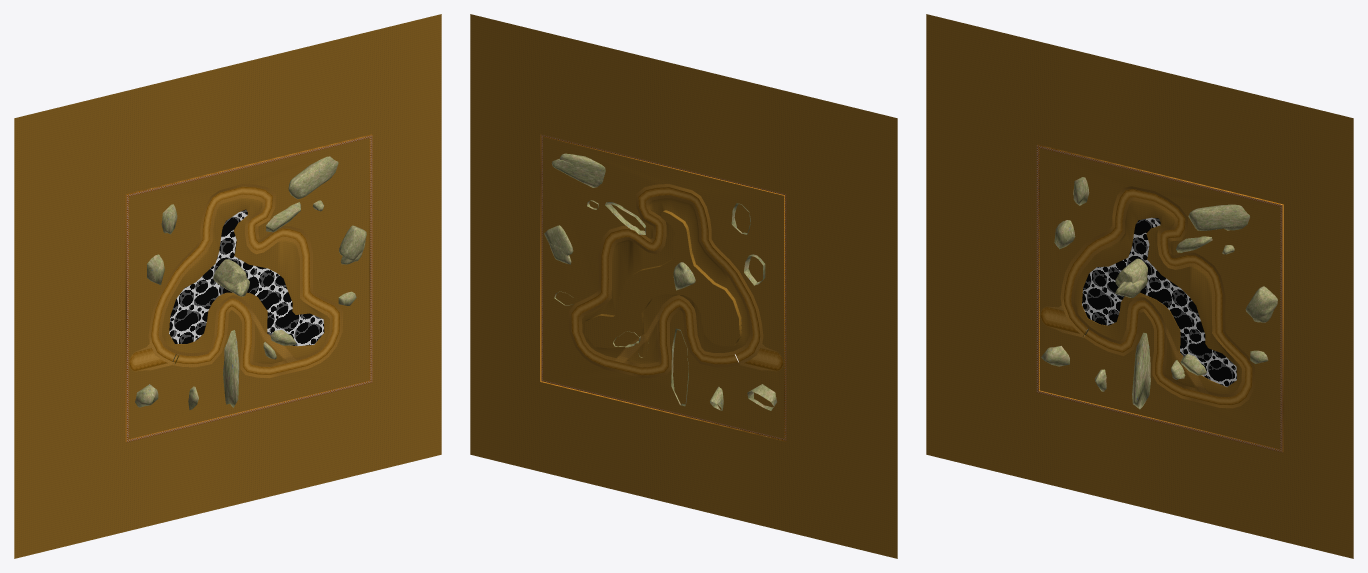
3 renders of one model, left to right at view 1: azimuth 30°, elevation 25°; view 2: azimuth 150°, elevation 25°; view 3: azimuth 330°, elevation 25°, orthographic.
Parts seen in each view (by area): view 1: heavy_offroad, dwayne_johnson, water.003, stone_road, offroad, wall_top, block_wall, dirt_road, start_area; view 2: heavy_offroad, lakebottom, stone_road, offroad, dwayne_johnson, wall_top, block_wall, lakewall, dirt_road, start_area; view 3: heavy_offroad, dwayne_johnson, water.003, stone_road, offroad, wall_top, block_wall, dirt_road, start_area.
Boxes of the visible parts, x1,y1,x2,y2 form: heavy_offroad: (14, 14, 441, 558); dwayne_johnson: (135, 156, 366, 409); water.003: (169, 209, 324, 346); stone_road: (151, 186, 339, 374); offroad: (148, 184, 342, 378); wall_top: (126, 135, 372, 442); block_wall: (125, 134, 371, 441); dirt_road: (136, 307, 296, 371); start_area: (129, 347, 167, 371); heavy_offroad: (470, 14, 897, 558); lakebottom: (584, 211, 739, 348); stone_road: (571, 187, 760, 375); offroad: (569, 184, 763, 378); dwayne_johnson: (544, 153, 777, 410); wall_top: (541, 134, 786, 440); block_wall: (540, 134, 786, 441); lakewall: (586, 210, 742, 345); dirt_road: (615, 308, 775, 371); start_area: (744, 347, 783, 371); heavy_offroad: (926, 14, 1353, 558); dwayne_johnson: (1041, 177, 1277, 409); water.003: (1082, 217, 1236, 386); stone_road: (1063, 189, 1252, 405); offroad: (1060, 186, 1254, 408); wall_top: (1036, 145, 1282, 452); block_wall: (1037, 144, 1283, 452); dirt_road: (1048, 298, 1208, 394); start_area: (1040, 306, 1079, 333).
Bounding box in the file's own units: 212041 × 208908 × 23163.
12 materials, 12 textured.
